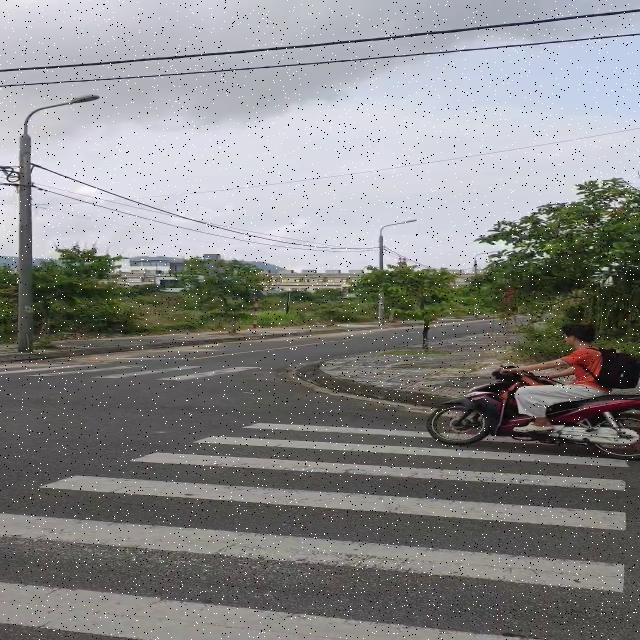without_helmet: (556, 320, 603, 350)
